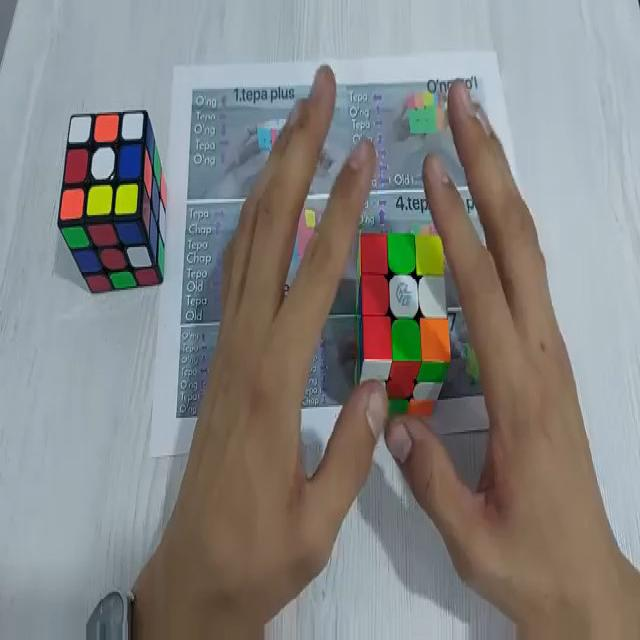Rub: (61, 107, 169, 291), (353, 226, 451, 414)
